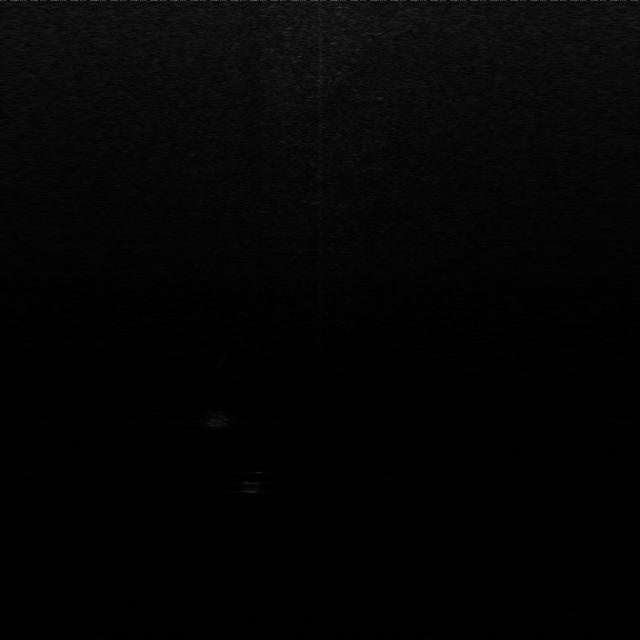circle cage: (200, 399, 238, 430)
tyre: (238, 462, 273, 494)
